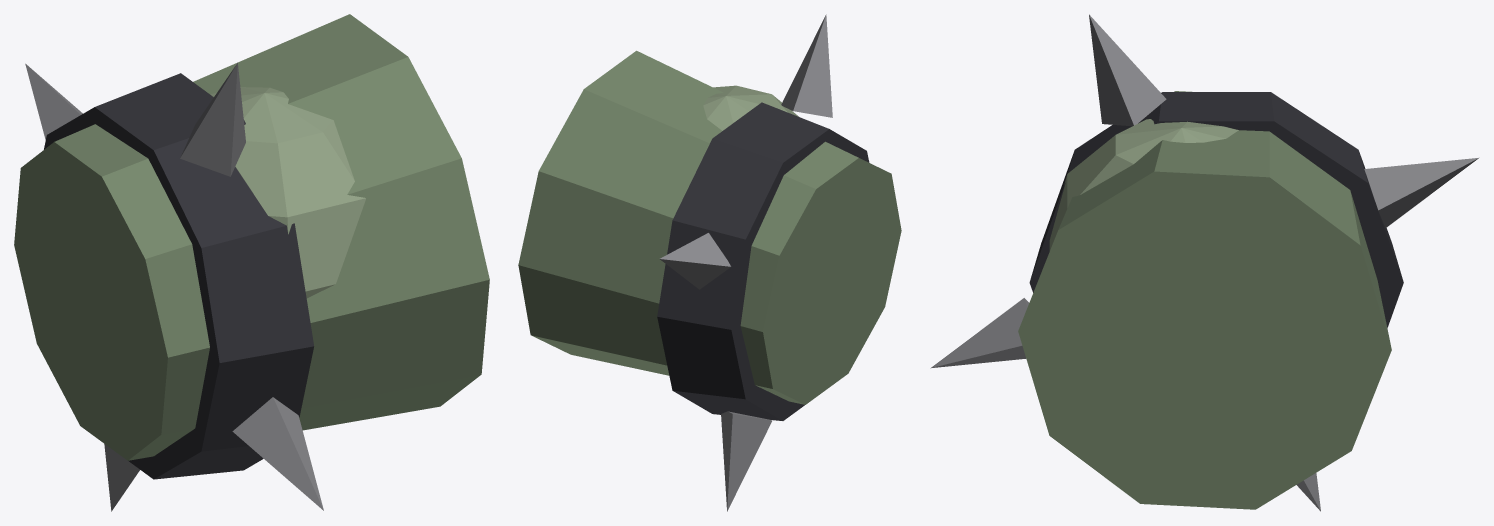
The model's file is stonebrow_warlord_arm_r.glb.
The picture shows the model from 3 angles, left to right: view 1: azimuth 30°, elevation 25°; view 2: azimuth 150°, elevation 25°; view 3: azimuth 270°, elevation 25°; orthographic projection. The views are drawn at different scales.
Visible parts, largest first — view 1: stonebrow_warlord_arm_r; view 2: stonebrow_warlord_arm_r; view 3: stonebrow_warlord_arm_r.
Boxes of the visible parts, box(x1,y1,x2,y2) form: stonebrow_warlord_arm_r: box(14, 14, 489, 511); stonebrow_warlord_arm_r: box(518, 14, 901, 511); stonebrow_warlord_arm_r: box(930, 14, 1479, 511).
Size of the model in its own units: 0.2935 by 0.4697 by 0.4697.
